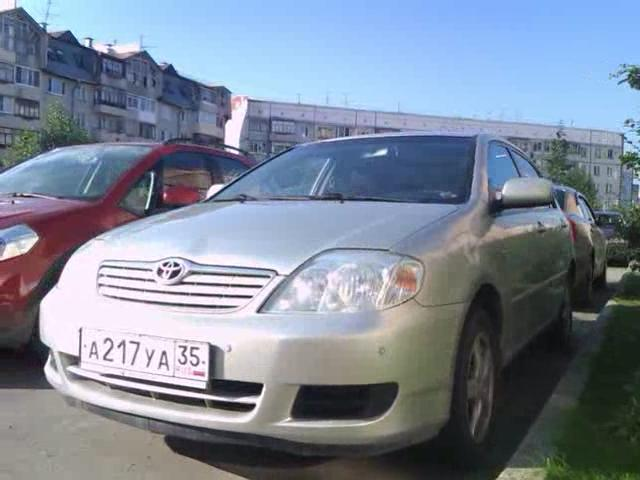car license plate: (79, 326, 212, 390)
